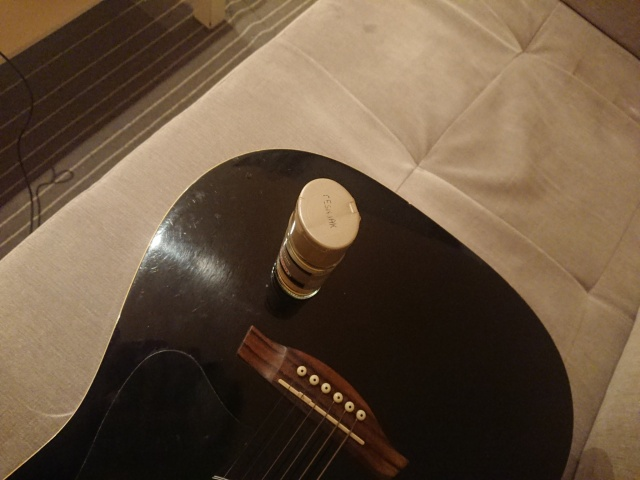Kotanyi Garlic Granules 70g: (272, 175, 363, 303)
